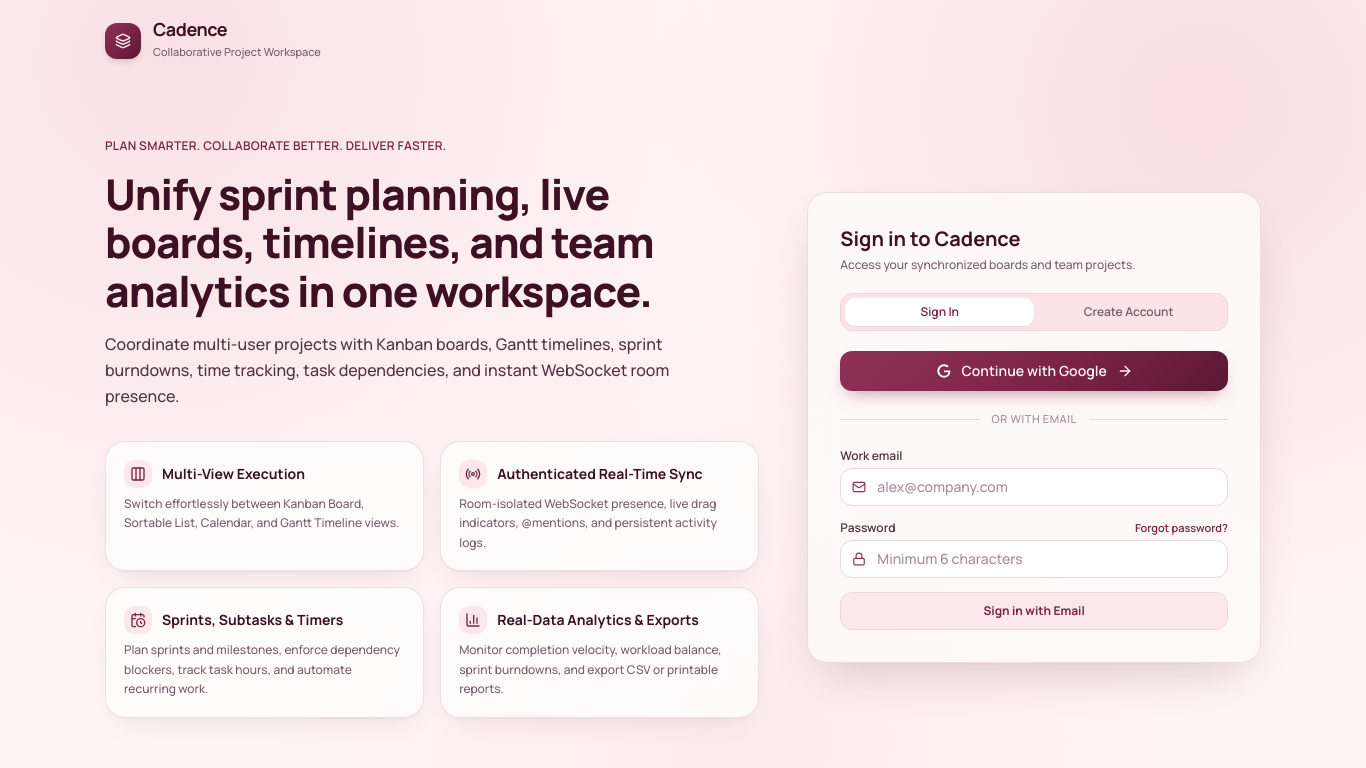
Test case: Cadence UI Components › switches AuthScreen between Sign In, Create Account, and Password Reset modes
expect the text "Plan Smarter. Collaborate Better. Deliver Faster." is shown: met, box [105,137,446,154]
expect the button "Continue with Google" is shown: met, box [840,352,1228,392]
Click the tab "Create Account".
click(1129, 312)  # box [1034,298,1223,326]
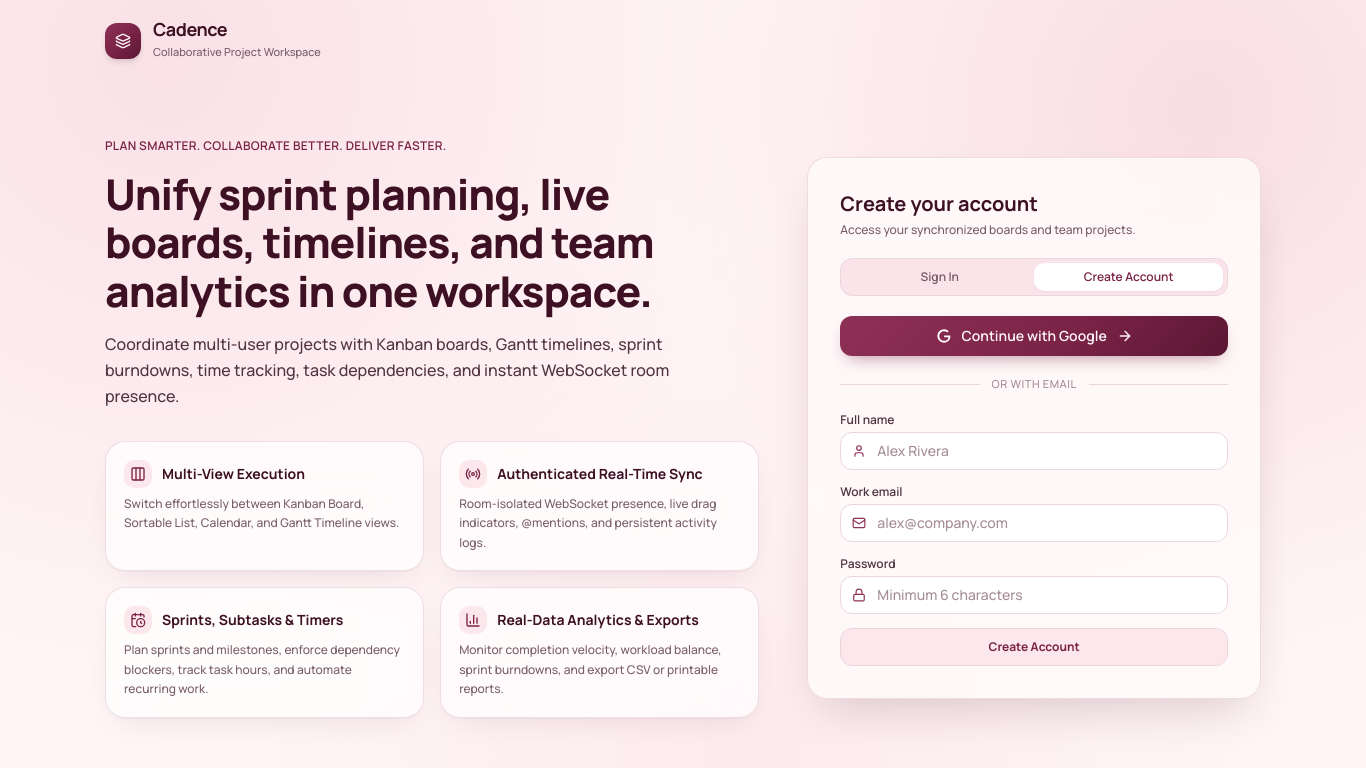
expect the field with placeholder "Alex Rivera" is shown: met, box [840,432,1228,470]
expect the button "Create Account" is shown: met, box [840,628,1228,666]
Click the tab "Sign In".
click(940, 277)  # box [845,263,1034,291]
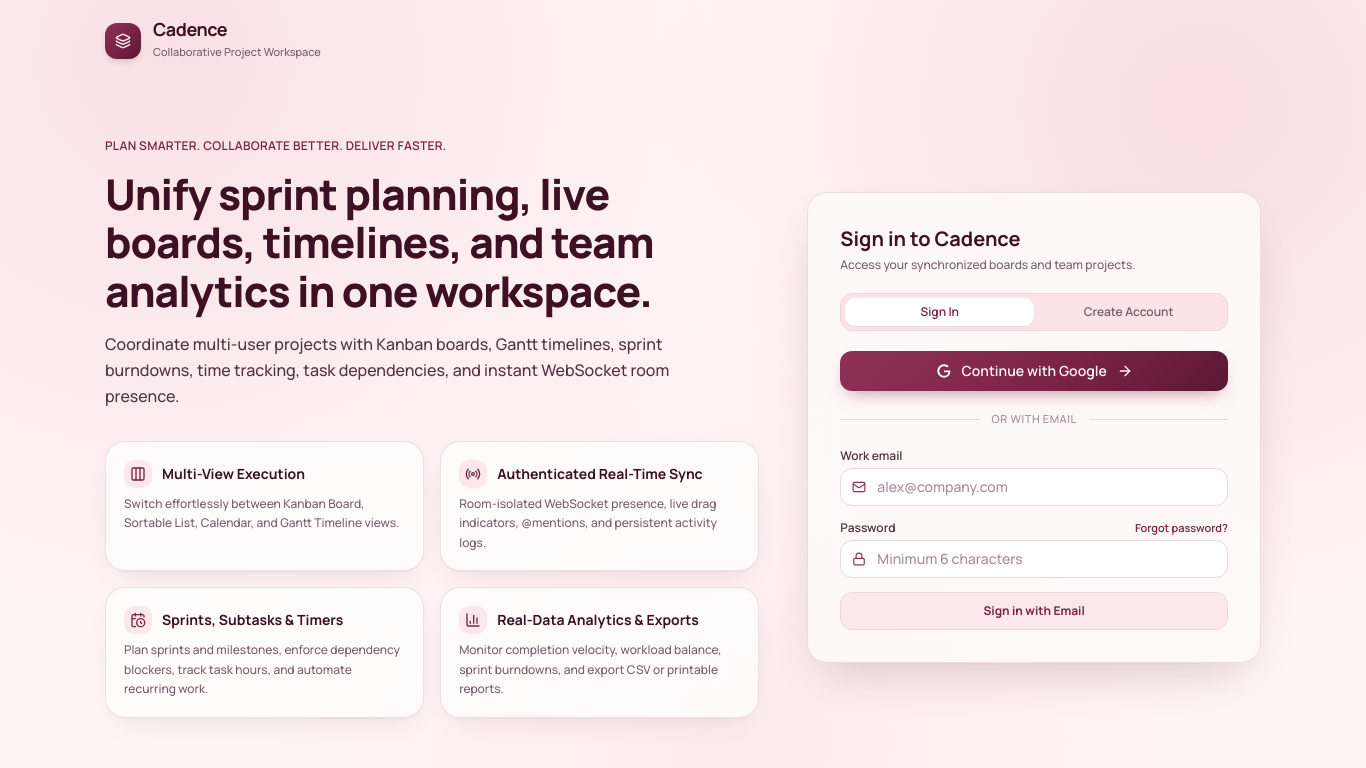
Click the button "Forgot password?".
click(1182, 528)  # box [1135,520,1228,536]
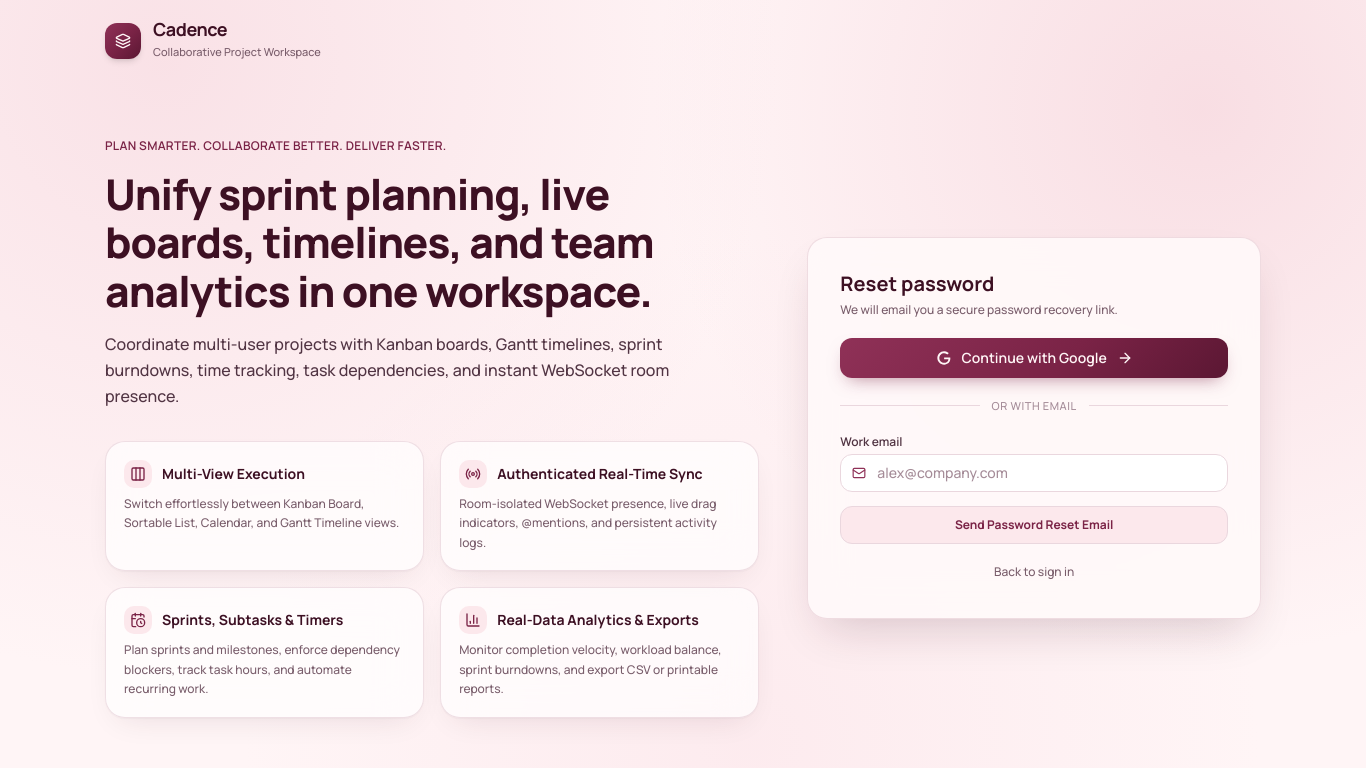
expect the button "Send Password Reset Email" is shown: met, box [840,506,1228,544]
